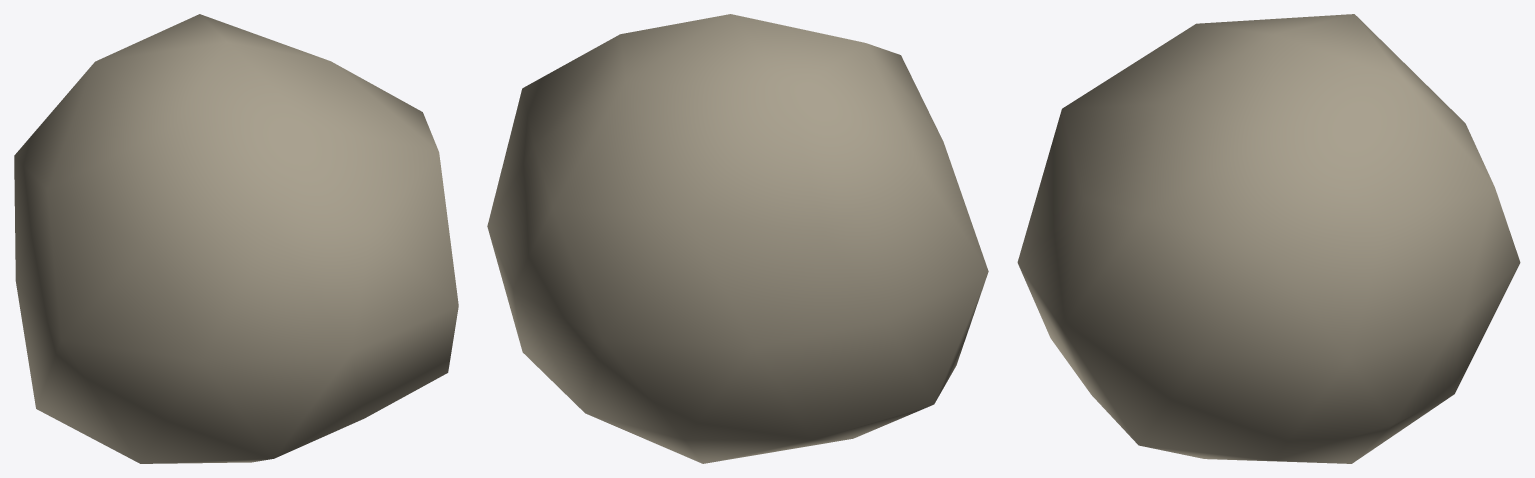
The model's file is material-stone-0.glb.
3 renders of one model, left to right at view 1: azimuth 30°, elevation 25°; view 2: azimuth 150°, elevation 25°; view 3: azimuth 270°, elevation 25°, orthographic. The views are drawn at different scales.
Parts seen in each view (by area): view 1: Stone; view 2: Stone; view 3: Stone.
Boxes of the visible parts, x1,y1,x2,y2 form: Stone: [14, 14, 458, 463]; Stone: [487, 14, 988, 463]; Stone: [1017, 14, 1520, 463].
Bounding box in the file's own units: 0.9435 × 0.8363 × 0.9935.
